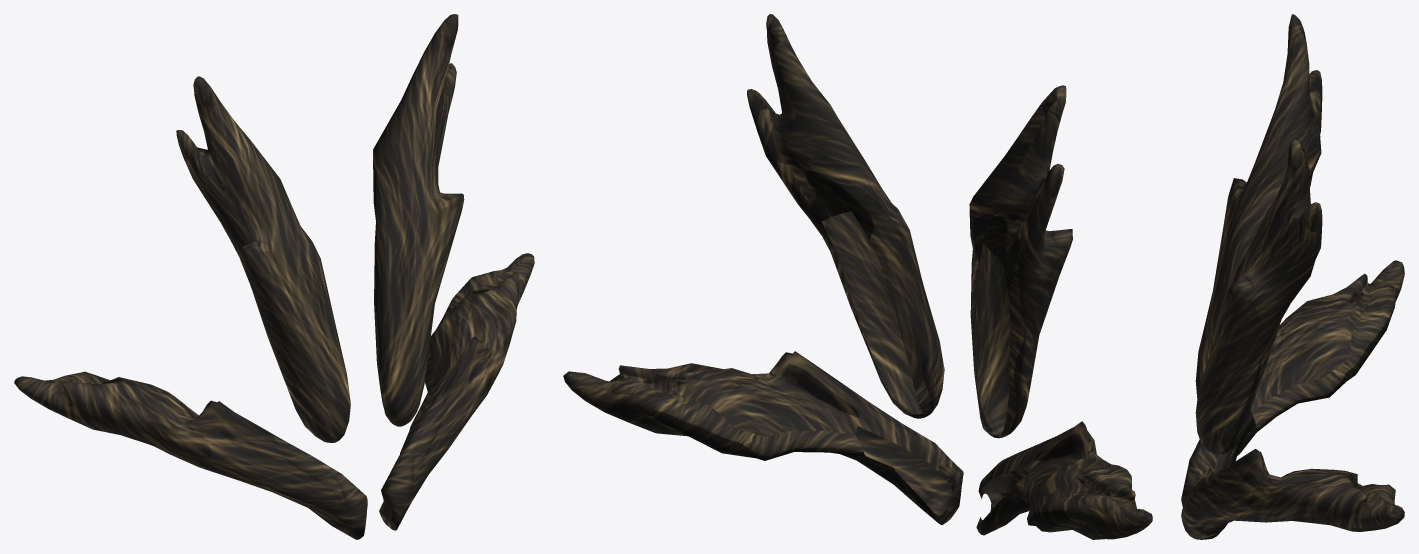
The model's file is sm_yun_eyebrows_01.gltf.
The picture shows the model from 3 angles, left to right: view 1: azimuth 30°, elevation 25°; view 2: azimuth 150°, elevation 25°; view 3: azimuth 270°, elevation 25°; orthographic projection. The views are drawn at different scales.
Parts seen in each view (by area): view 1: sm_yun_eyebrows_01; view 2: sm_yun_eyebrows_01; view 3: sm_yun_eyebrows_01.
Part boxes in pixels (bbox=[...]): sm_yun_eyebrows_01: bbox=[14, 14, 534, 539]; sm_yun_eyebrows_01: bbox=[563, 14, 1152, 539]; sm_yun_eyebrows_01: bbox=[1181, 14, 1404, 539].
Bounding box in the file's own units: 27.27 × 22.76 × 10.19.
1 material, 1 textured.
